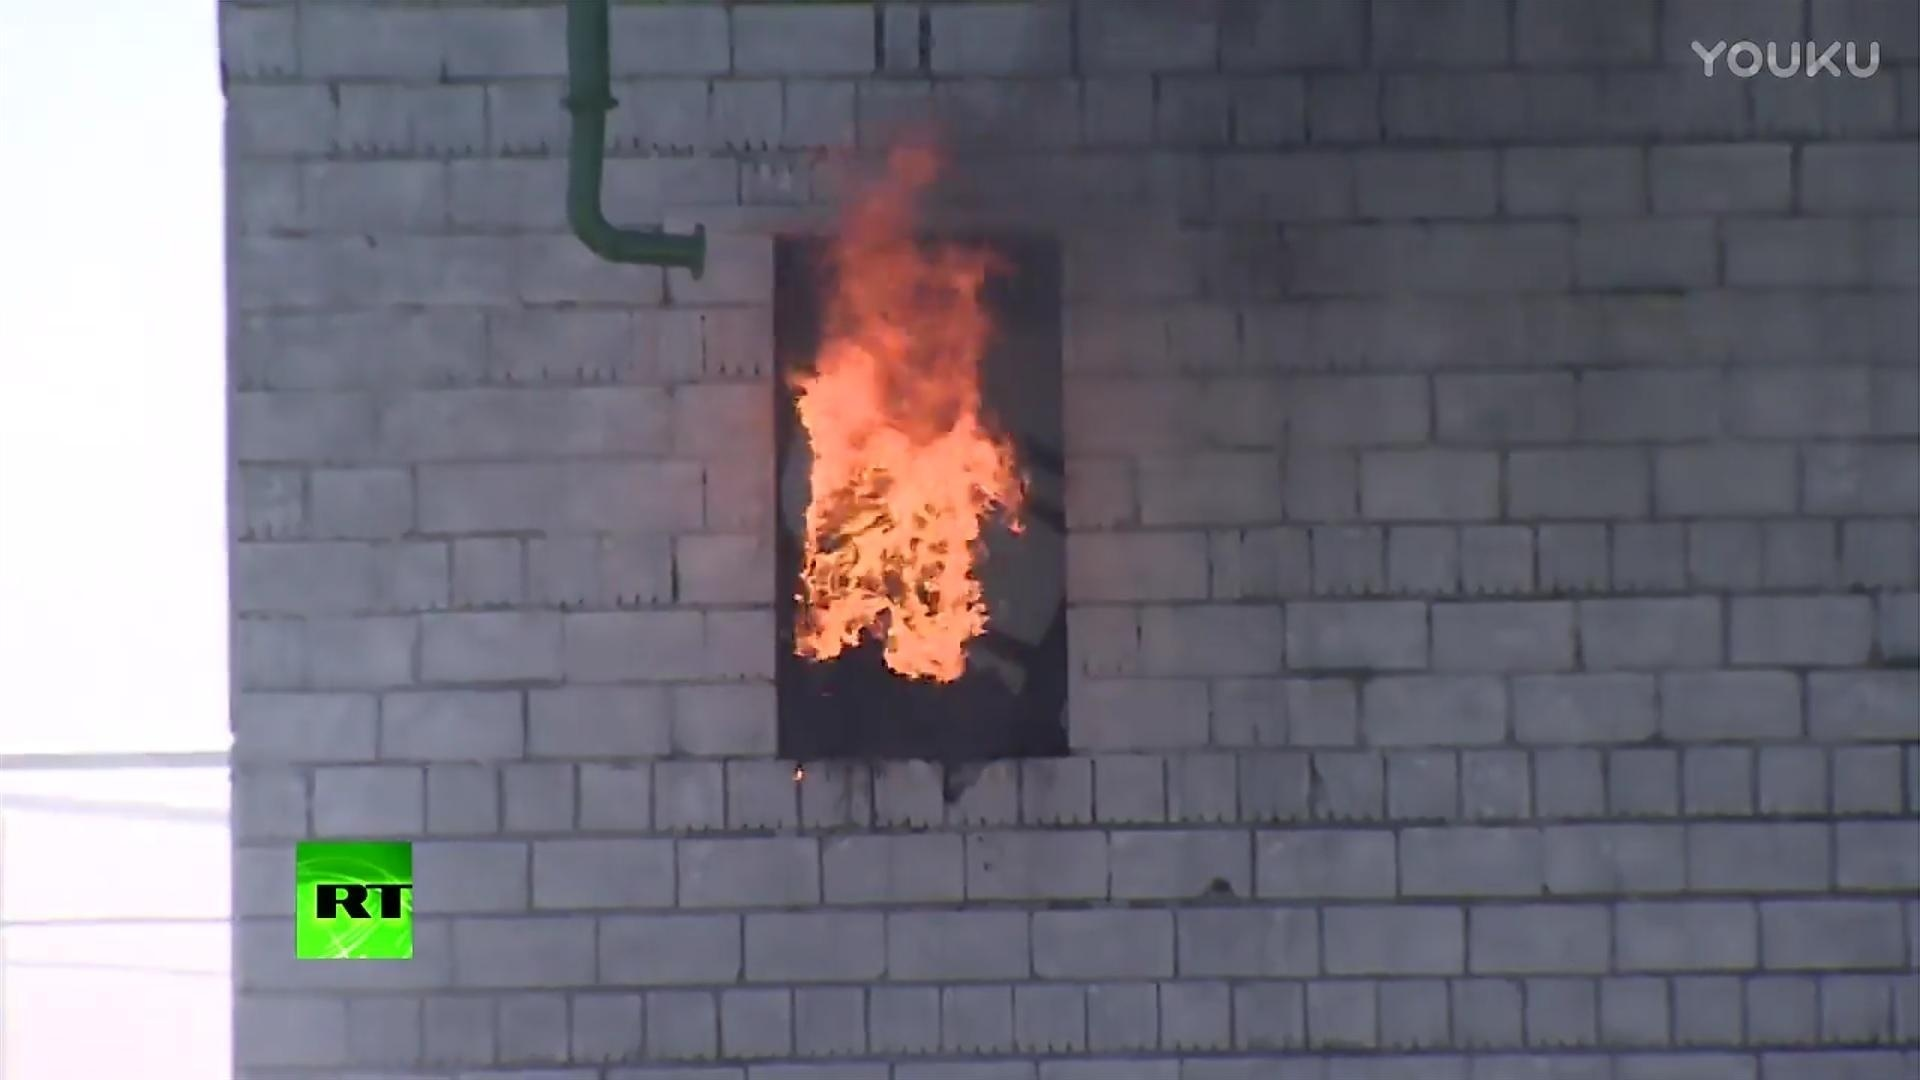fire: (787, 156, 1033, 687)
